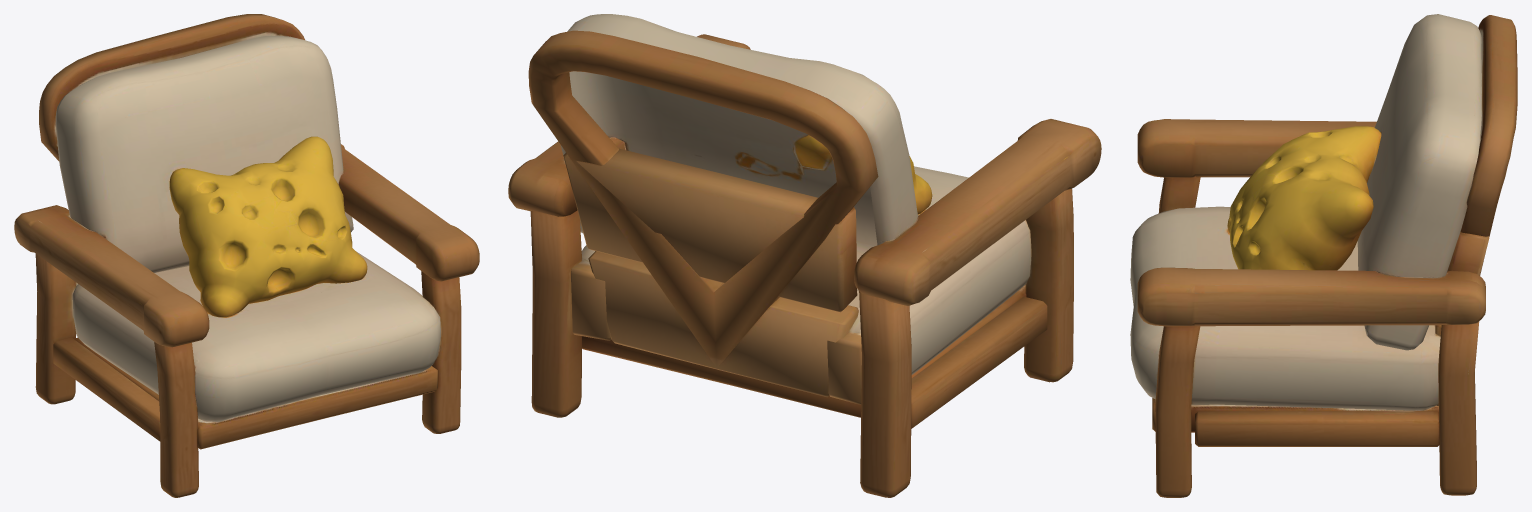
File: selected.glb
3 views of the same model, side by side, from view 1: azimuth 30°, elevation 25°; view 2: azimuth 150°, elevation 25°; view 3: azimuth 270°, elevation 25° (orthographic). The views are drawn at different scales.
Parts seen in each view (by area): view 1: tripo_node_88f5fdc4-b5b8-4ca9-8e5c-3ac6fed88486; view 2: tripo_node_88f5fdc4-b5b8-4ca9-8e5c-3ac6fed88486; view 3: tripo_node_88f5fdc4-b5b8-4ca9-8e5c-3ac6fed88486.
Part boxes in pixels (x1,y1,x2,y2): tripo_node_88f5fdc4-b5b8-4ca9-8e5c-3ac6fed88486: (14,14,479,497); tripo_node_88f5fdc4-b5b8-4ca9-8e5c-3ac6fed88486: (508,14,1101,497); tripo_node_88f5fdc4-b5b8-4ca9-8e5c-3ac6fed88486: (1130,14,1517,497).
Size of the model in its own units: 0.998 by 0.9668 by 0.9355.
Materials: 1 (1 with a texture image).
